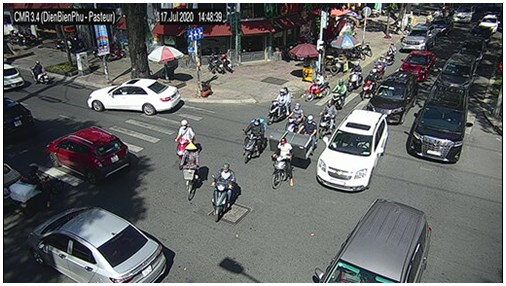xe_dap: (181, 142, 199, 200)
xe_hoi: (27, 206, 167, 284), (315, 199, 432, 284), (317, 109, 389, 193), (46, 125, 130, 184), (407, 84, 467, 163), (87, 78, 181, 116), (369, 72, 418, 125), (436, 53, 477, 93), (3, 96, 35, 140), (401, 49, 436, 79), (401, 23, 437, 52), (459, 36, 486, 60), (4, 63, 24, 92), (470, 26, 493, 48), (432, 17, 454, 36), (480, 14, 499, 34), (454, 7, 474, 22)
xe_may: (7, 164, 64, 216), (269, 128, 311, 191), (211, 163, 236, 222), (243, 118, 267, 164), (175, 118, 196, 167), (267, 87, 291, 123), (286, 101, 305, 139), (307, 71, 330, 102), (320, 101, 336, 140), (302, 113, 318, 147), (362, 68, 378, 100), (330, 79, 346, 109), (348, 62, 363, 92), (31, 60, 49, 84), (373, 56, 385, 78), (386, 42, 397, 65)
